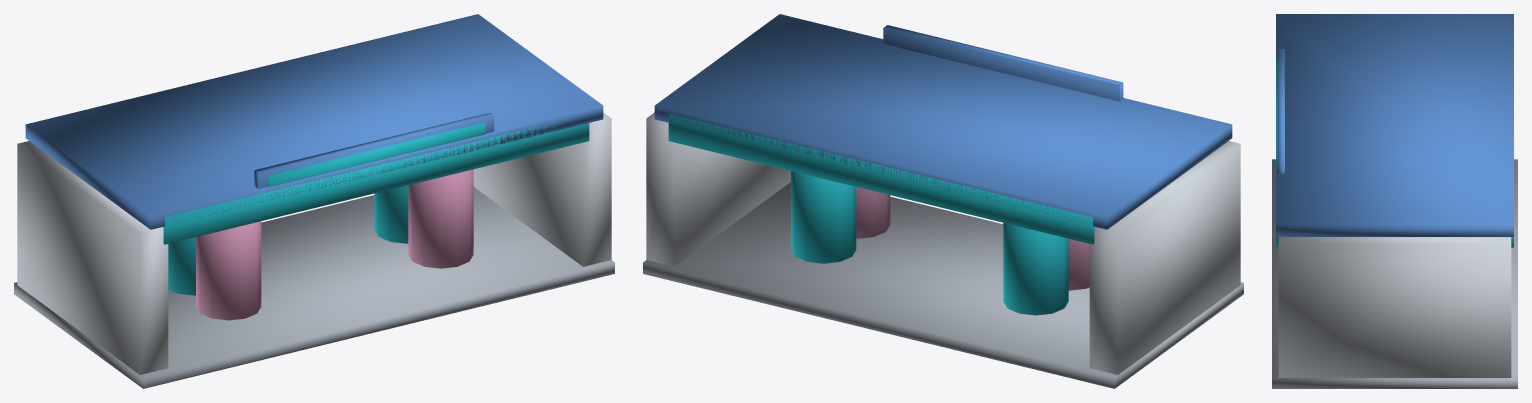
The model's file is carwash.glb.
3 views of the same model, side by side, from view 1: azimuth 30°, elevation 25°; view 2: azimuth 150°, elevation 25°; view 3: azimuth 270°, elevation 25° (orthographic). The views are drawn at different scales.
Visible parts, largest first — view 1: world; view 2: world; view 3: world.
Boxes of the visible parts, x1,y1,x2,y2 form: world: [14, 14, 614, 388]; world: [643, 14, 1243, 388]; world: [1272, 14, 1517, 388].
Bounding box in the file's own units: 20 × 7.5 × 9.5.
